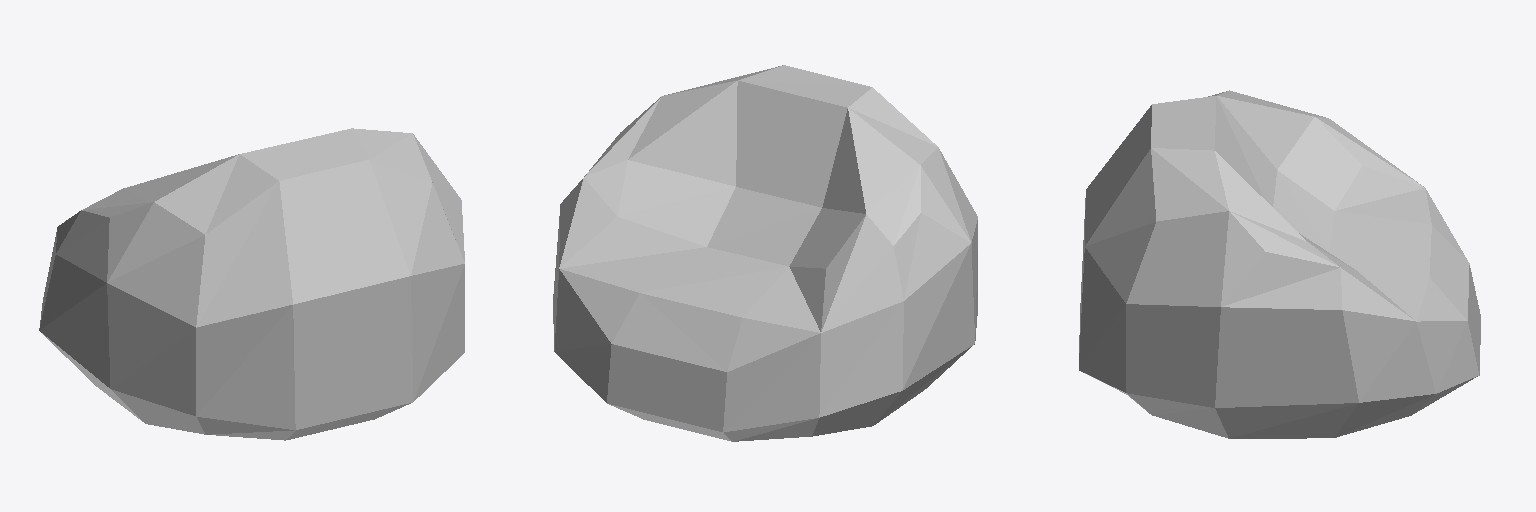
File: SM_Prop_Chair_BeanBag_03_OBJ.obj
3 renders of one model, left to right at view 1: azimuth 30°, elevation 25°; view 2: azimuth 150°, elevation 25°; view 3: azimuth 270°, elevation 25°, orthographic.
Visible parts, largest first — view 1: SM_Prop_Chair_BeanBag_03; view 2: SM_Prop_Chair_BeanBag_03; view 3: SM_Prop_Chair_BeanBag_03.
Part boxes in pixels (left/top/right/bottom): SM_Prop_Chair_BeanBag_03: left=39, top=128, right=464, bottom=440; SM_Prop_Chair_BeanBag_03: left=553, top=65, right=977, bottom=441; SM_Prop_Chair_BeanBag_03: left=1079, top=90, right=1480, bottom=438.
Bounding box in the file's own units: 97.38 × 72.21 × 96.3.